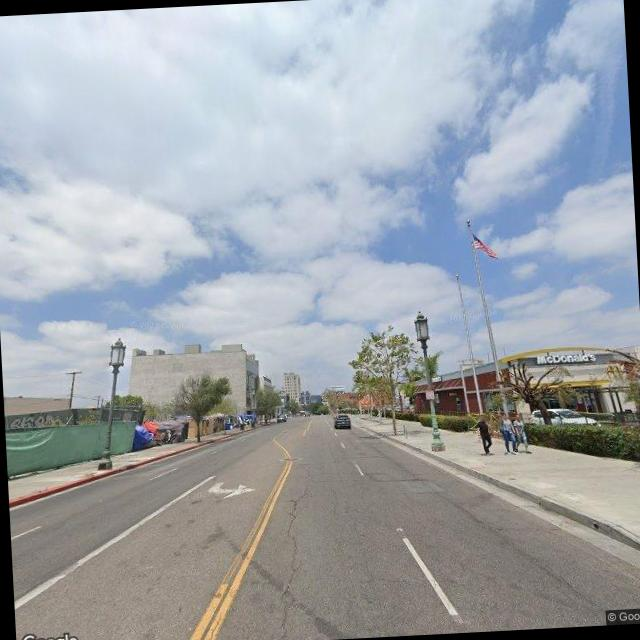pothole: (268, 491, 311, 639)
